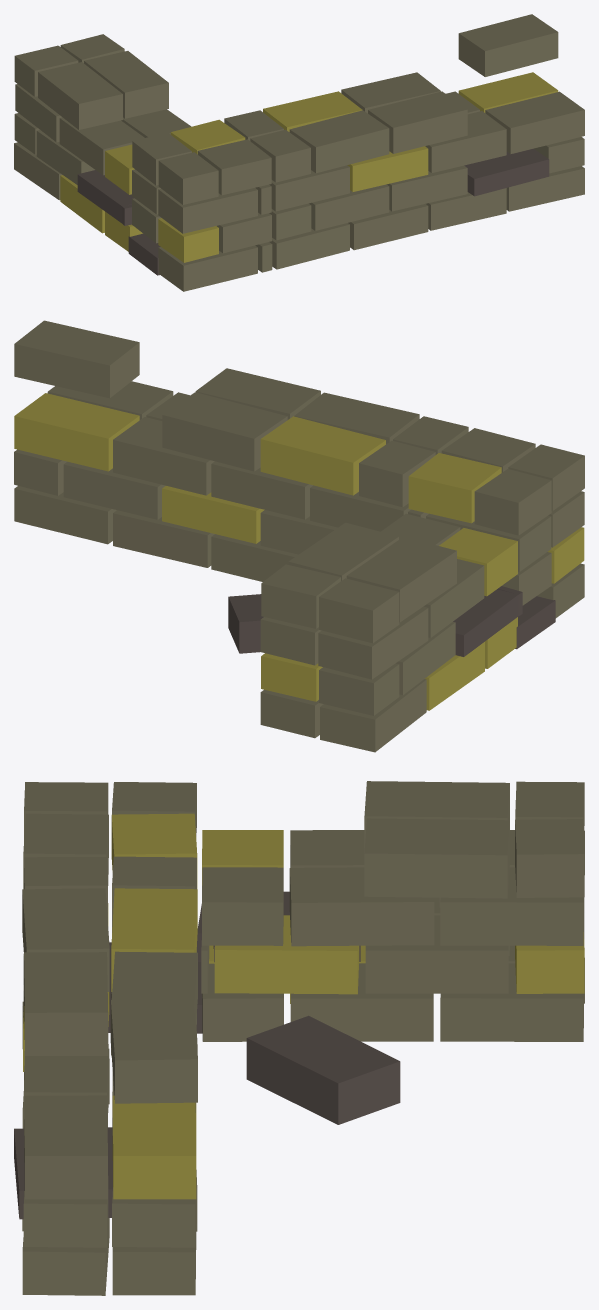
The model's file is SM_PretilEsquinaPaso_v2_Irregular_e1_Danado_LOD0.fbx.
3 renders of one model, top to bottom at view 1: azimuth 30°, elevation 25°; view 2: azimuth 150°, elevation 25°; view 3: azimuth 270°, elevation 25°, orthographic. The views are drawn at different scales.
Parts seen in each view (by area): view 1: SM_pretil_azotea_v49_LOD0; view 2: SM_pretil_azotea_v49_LOD0; view 3: SM_pretil_azotea_v49_LOD0.
Part boxes in pixels (<box>): SM_pretil_azotea_v49_LOD0: <box>14,14,584,291</box>; SM_pretil_azotea_v49_LOD0: <box>14,320,584,752</box>; SM_pretil_azotea_v49_LOD0: <box>14,781,584,1295</box>.
Bounding box in the file's own units: 4.42 × 1.49 × 3.23.
